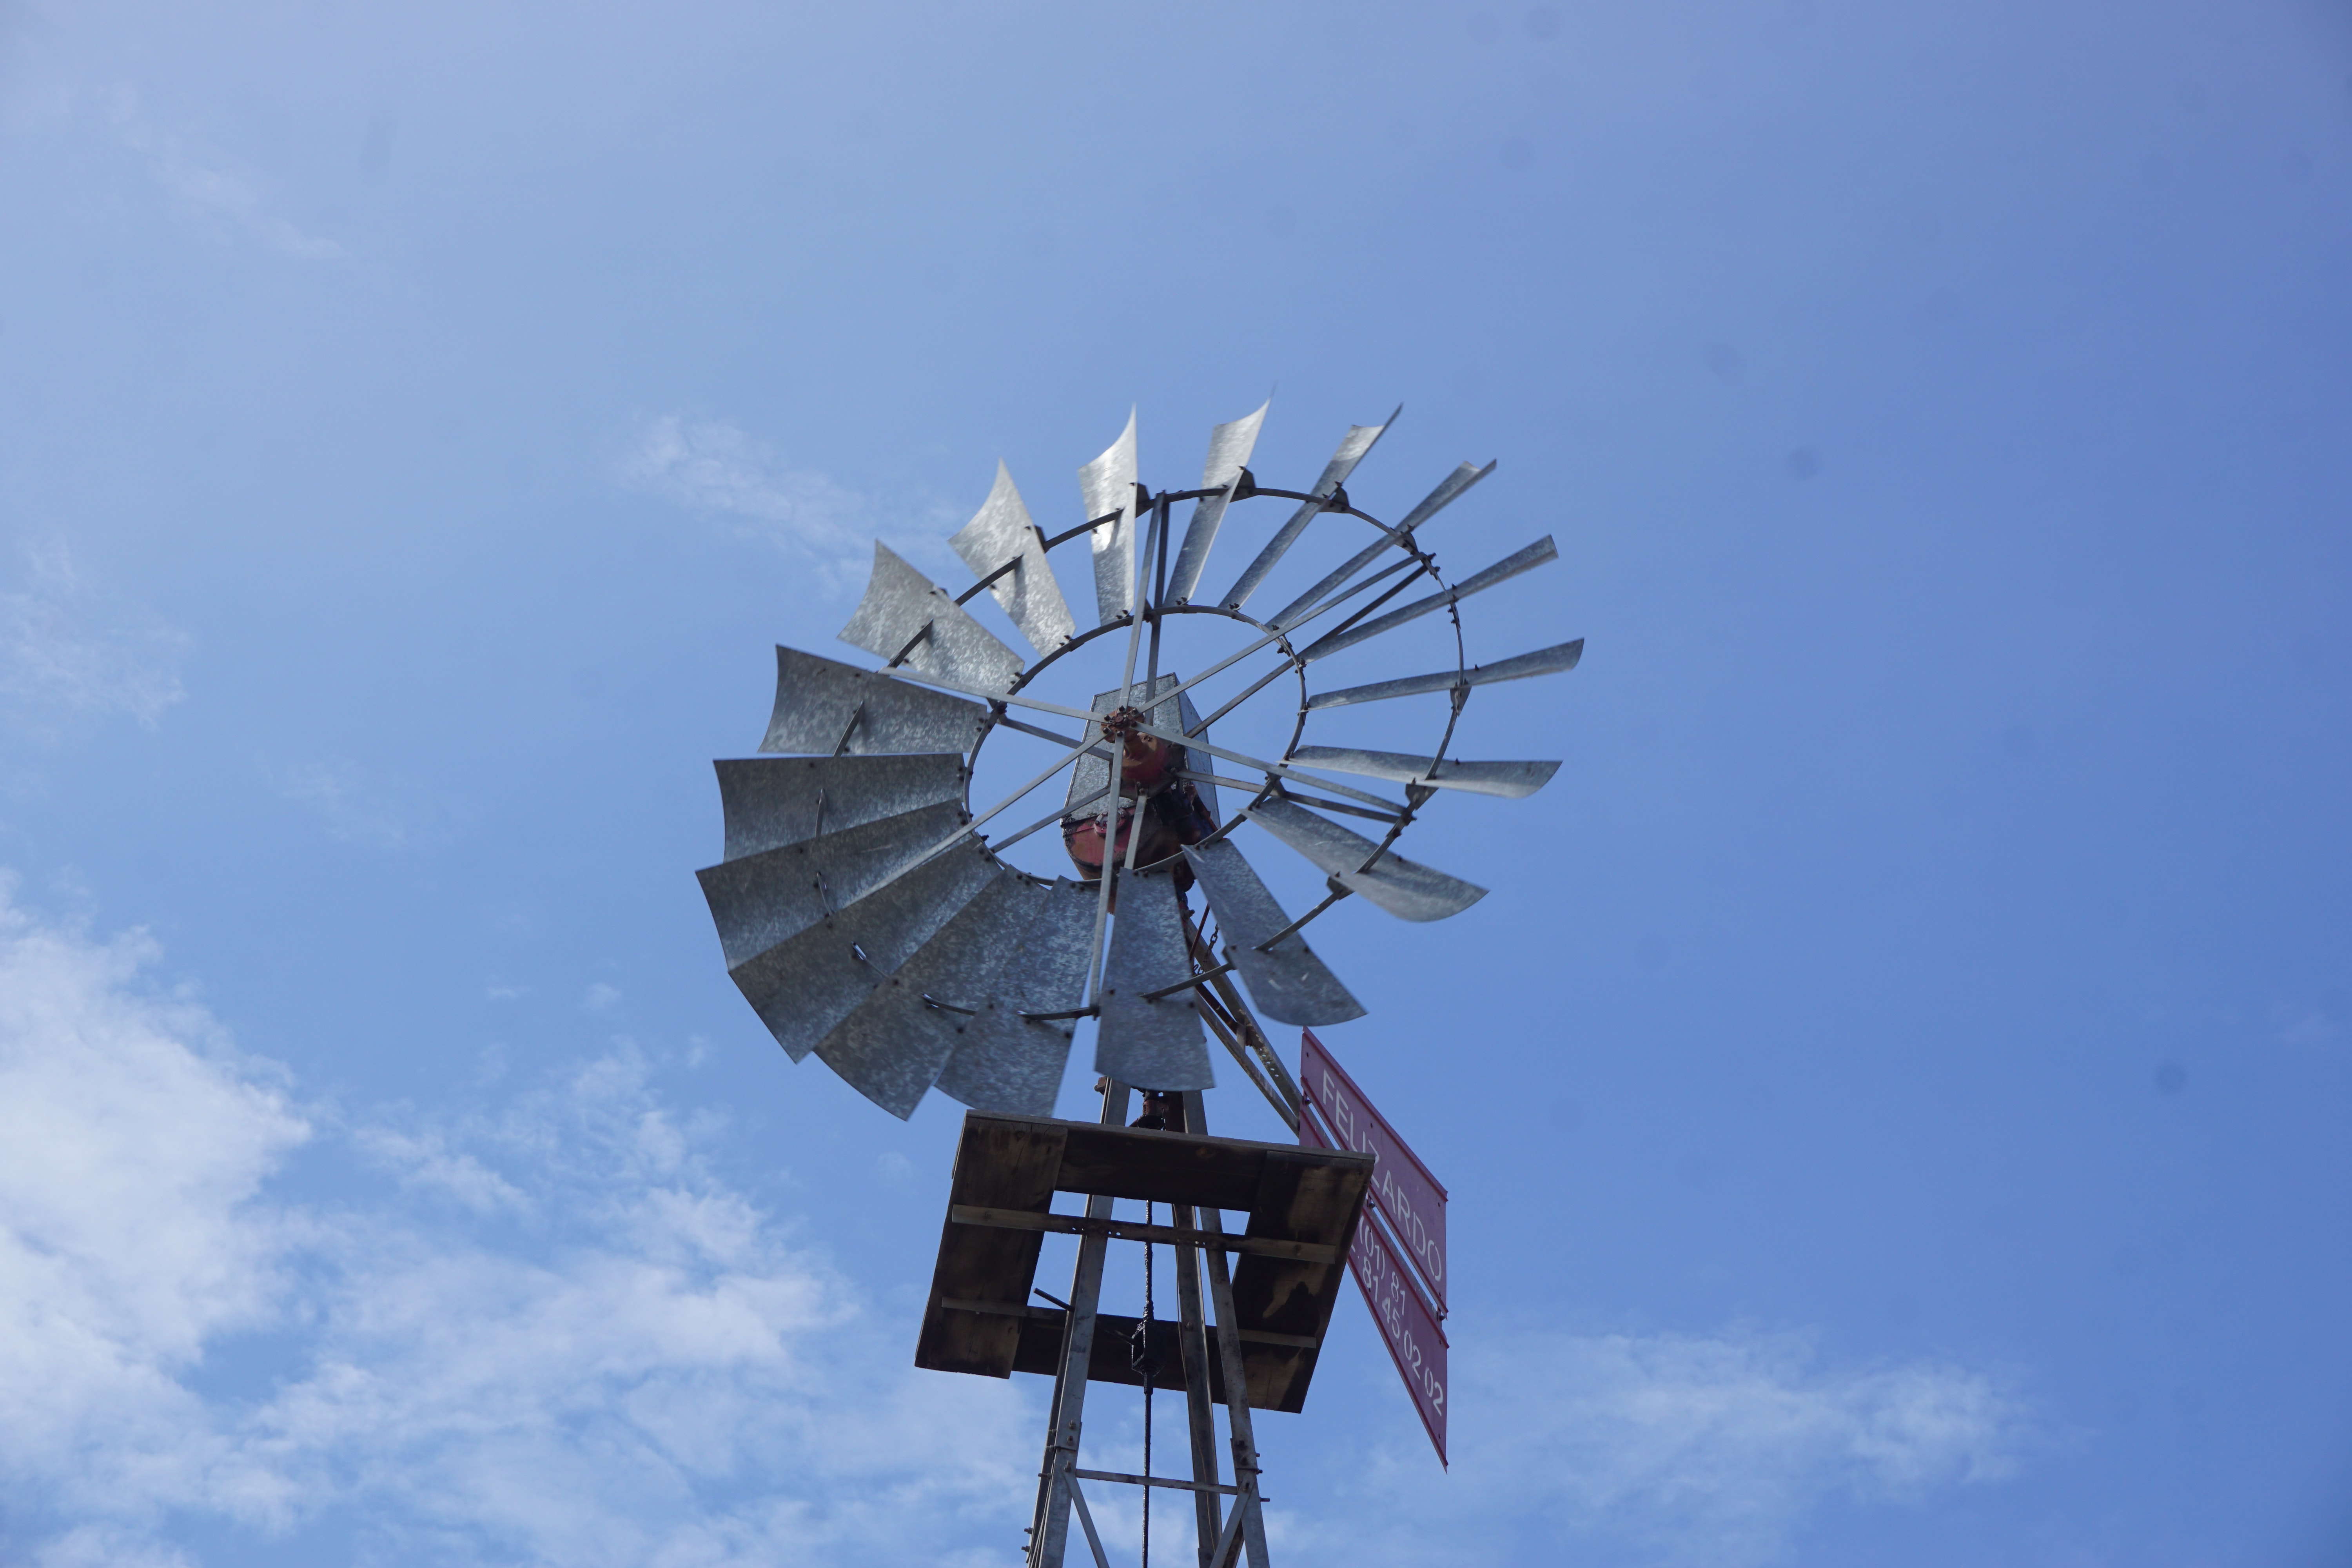working: (677, 406, 1584, 1127)
